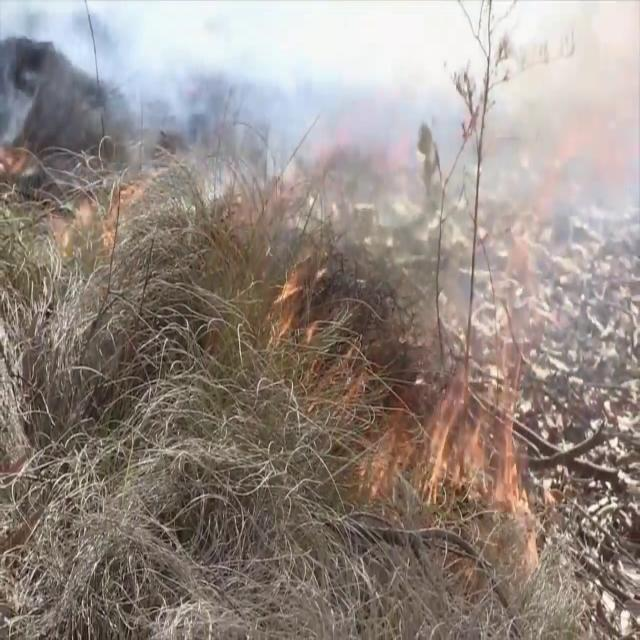Smoke: (12, 0, 638, 253)
